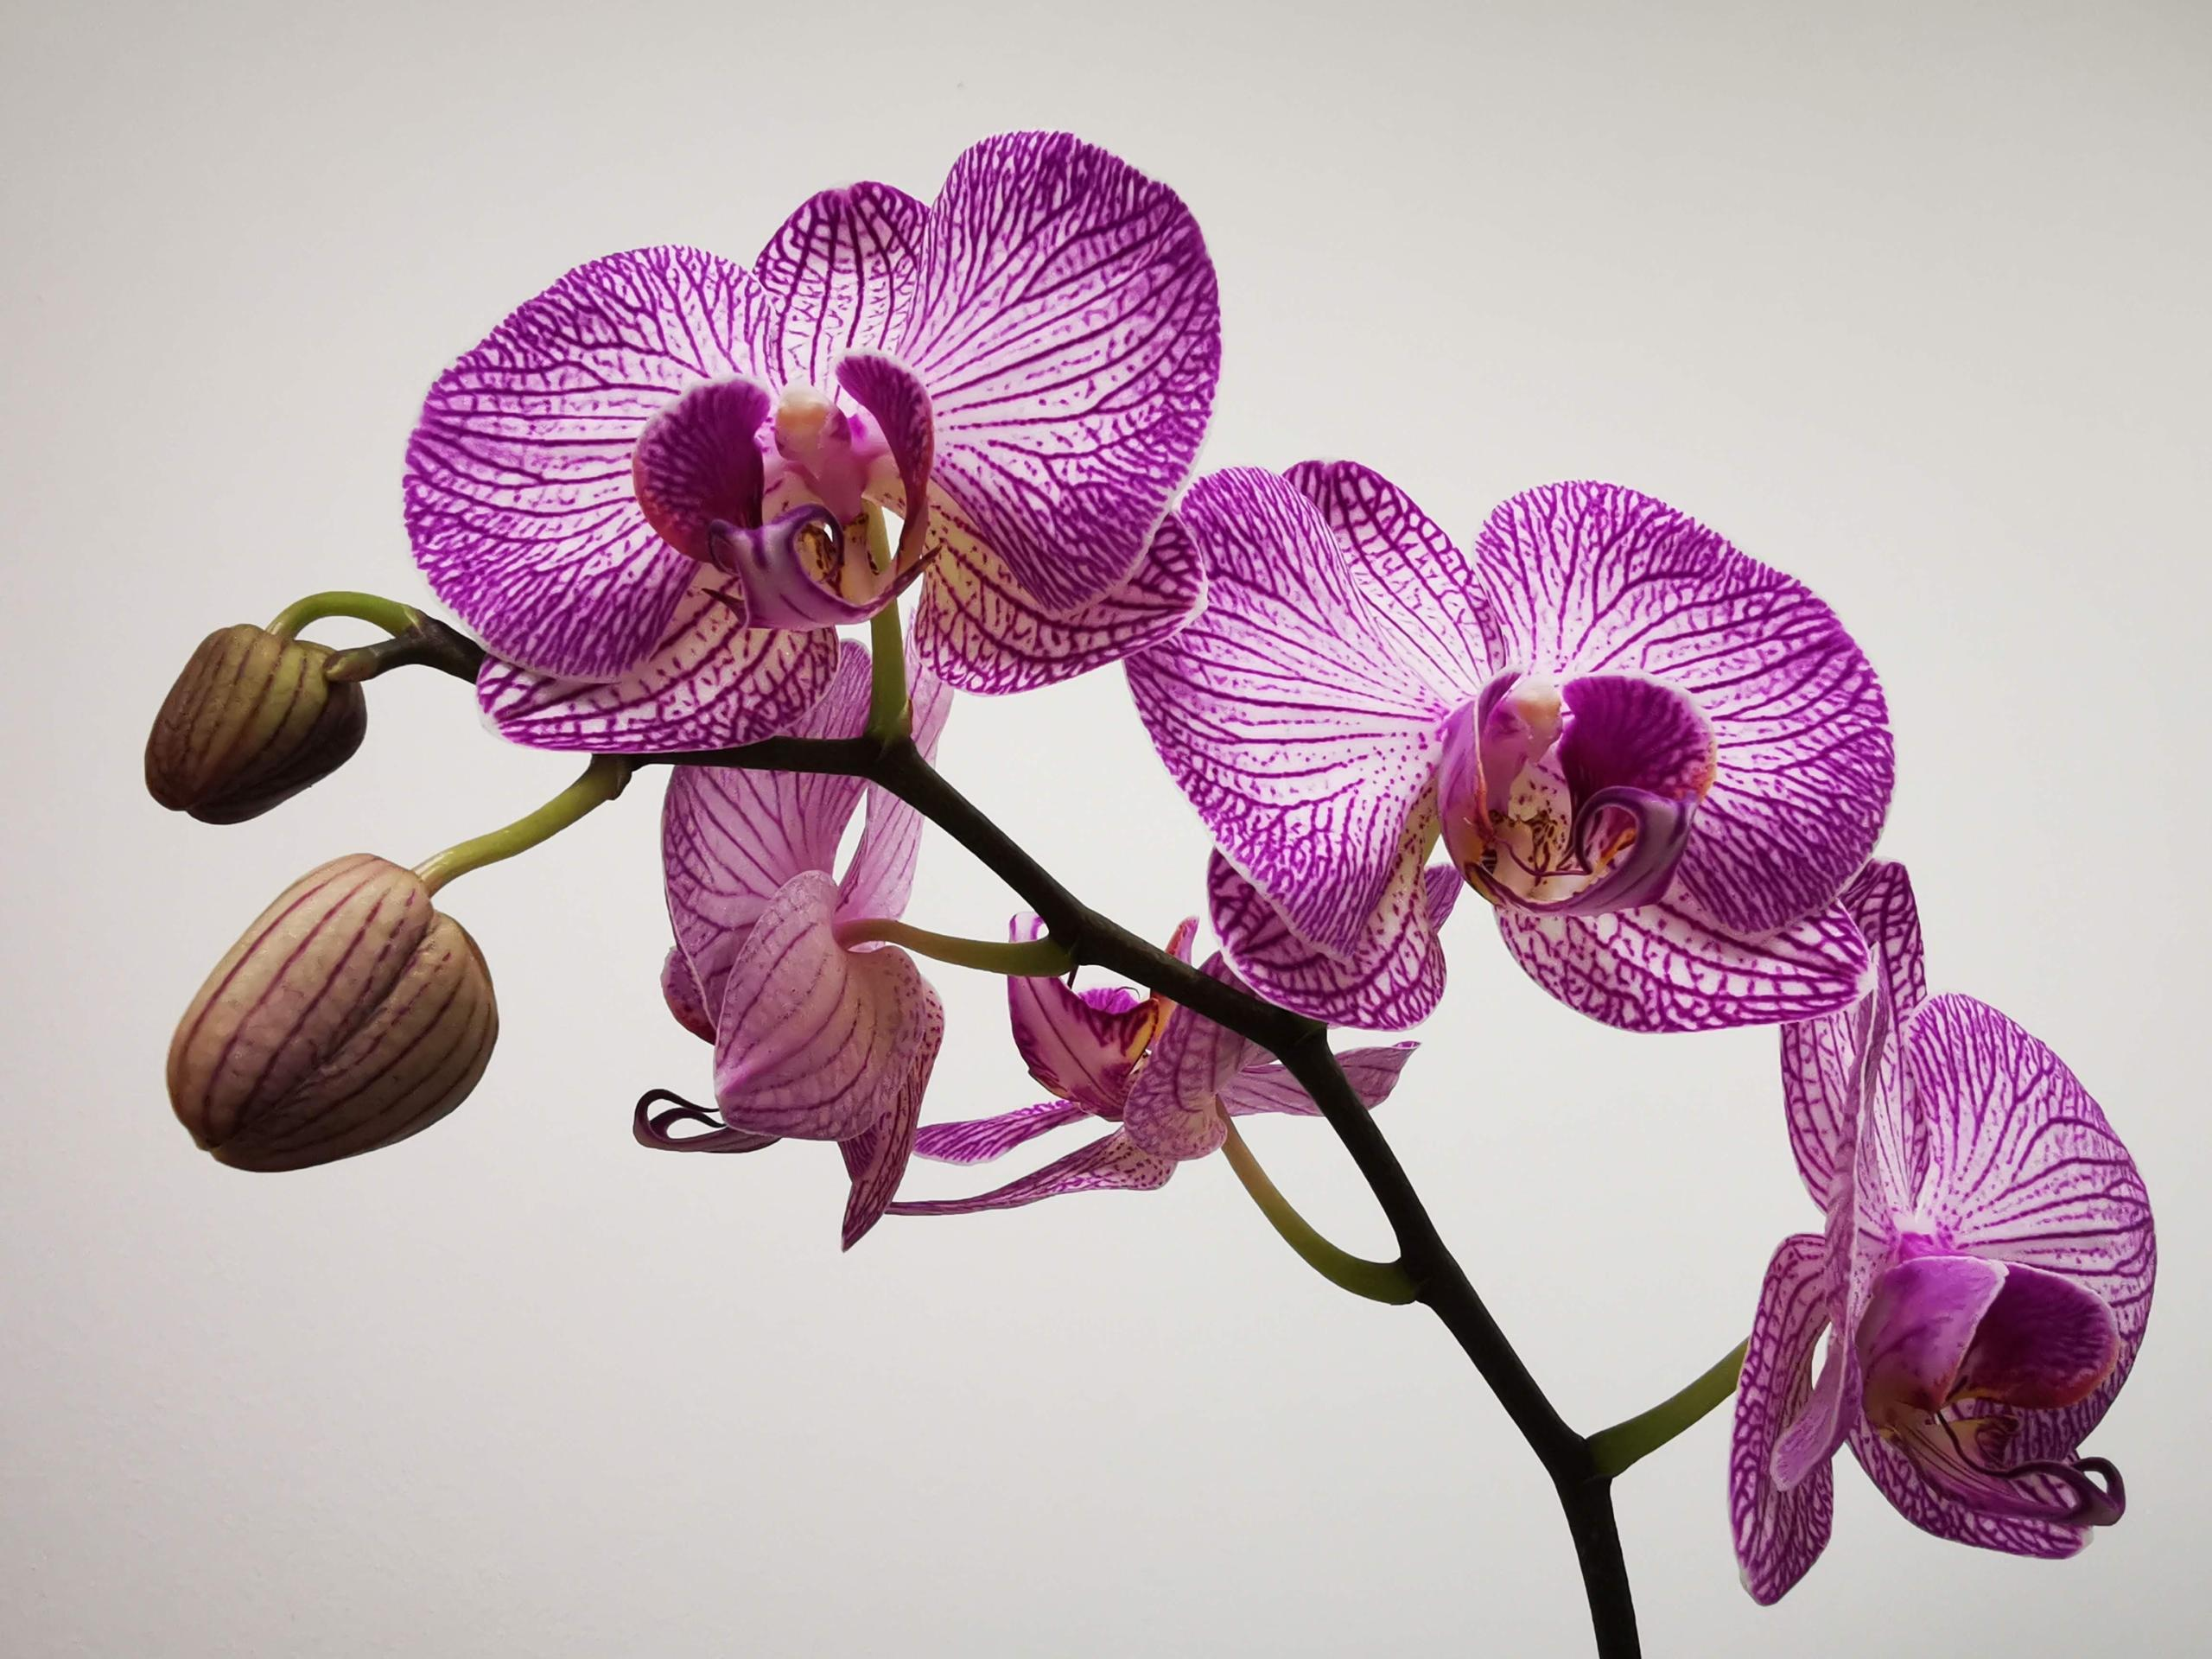orchid: (404, 118, 1216, 732), (1162, 450, 1904, 1026), (1700, 868, 2181, 1605)
